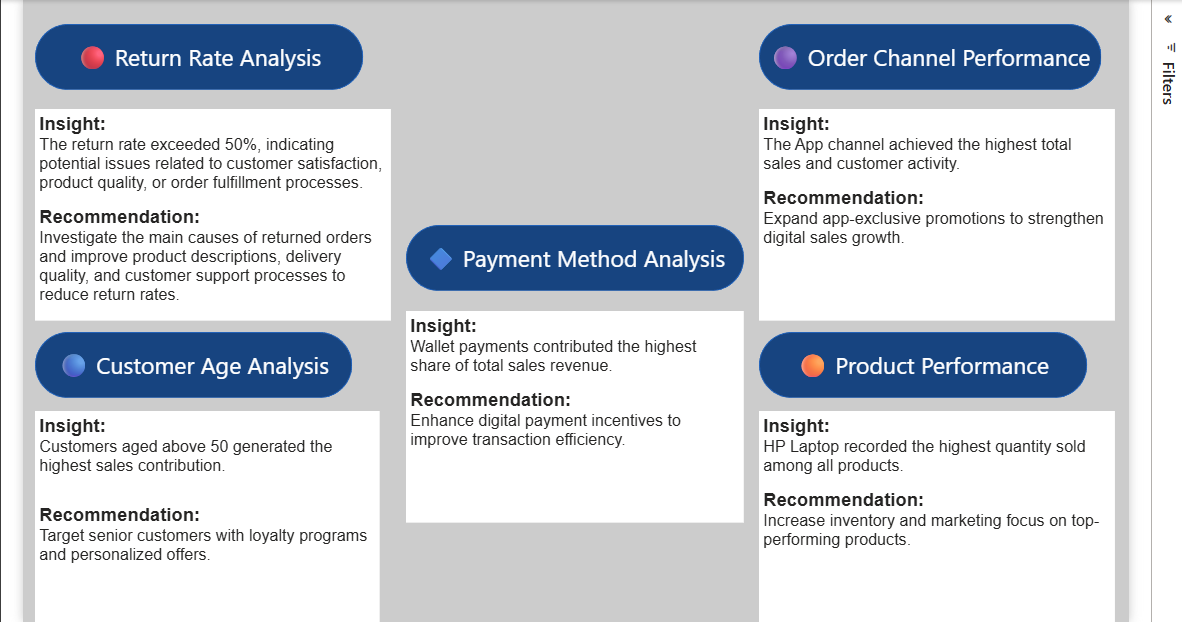

The dashboard page shown, as its layout file describes it:
{"tool":"powerbi","page":{"name":"Insights and Recommendations","canvas":[1280,720],"ordinal":2},"visuals":[{"type":"shape","box":[14,28,379.9,76.5],"z":0},{"type":"textbox","box":[14,126.2,411.8,244.8],"z":1000},{"type":"shape","box":[851.6,383.7,379.9,76.5],"z":2000},{"type":"shape","box":[851.6,28,396.5,76.5],"z":3000},{"type":"shape","box":[14,383.7,367.2,76.5],"z":4000},{"type":"textbox","box":[851.6,126.2,411.8,244.8],"z":5000},{"type":"textbox","box":[14,475.5,399,244.8],"z":6000},{"type":"textbox","box":[851.6,475.5,411.8,244.8],"z":7000},{"type":"shape","box":[443.7,260.1,391.4,76.5],"z":8000},{"type":"textbox","box":[443.7,359.5,391.4,244.8],"z":9000}]}

Visuals, with their boxes on the page's 1280x720 design canvas (x1, y1, x2, y2). These are canvas units, not pixel positions in the 1182x622 screenshot, which may show the page scaled, cropped or inside an application window:
shape: pyautogui.locateOnScreen(14, 28, 394, 104)
textbox: pyautogui.locateOnScreen(14, 126, 426, 371)
shape: pyautogui.locateOnScreen(852, 384, 1232, 460)
shape: pyautogui.locateOnScreen(852, 28, 1248, 104)
shape: pyautogui.locateOnScreen(14, 384, 381, 460)
textbox: pyautogui.locateOnScreen(852, 126, 1263, 371)
textbox: pyautogui.locateOnScreen(14, 476, 413, 720)
textbox: pyautogui.locateOnScreen(852, 476, 1263, 720)
shape: pyautogui.locateOnScreen(444, 260, 835, 337)
textbox: pyautogui.locateOnScreen(444, 360, 835, 604)
